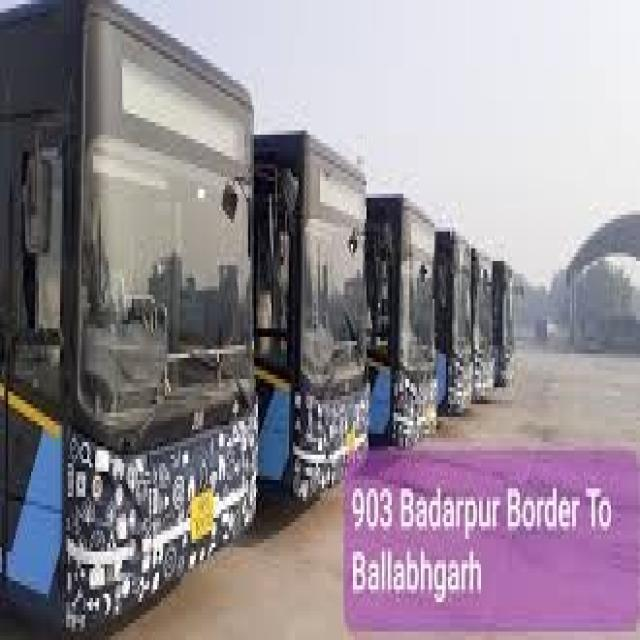bus: (2, 5, 255, 640), (257, 134, 369, 500), (372, 192, 439, 439), (440, 227, 473, 412), (475, 253, 496, 397), (496, 262, 518, 379)
